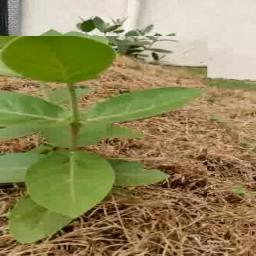CALOTROPIS: (0, 36, 208, 244)
